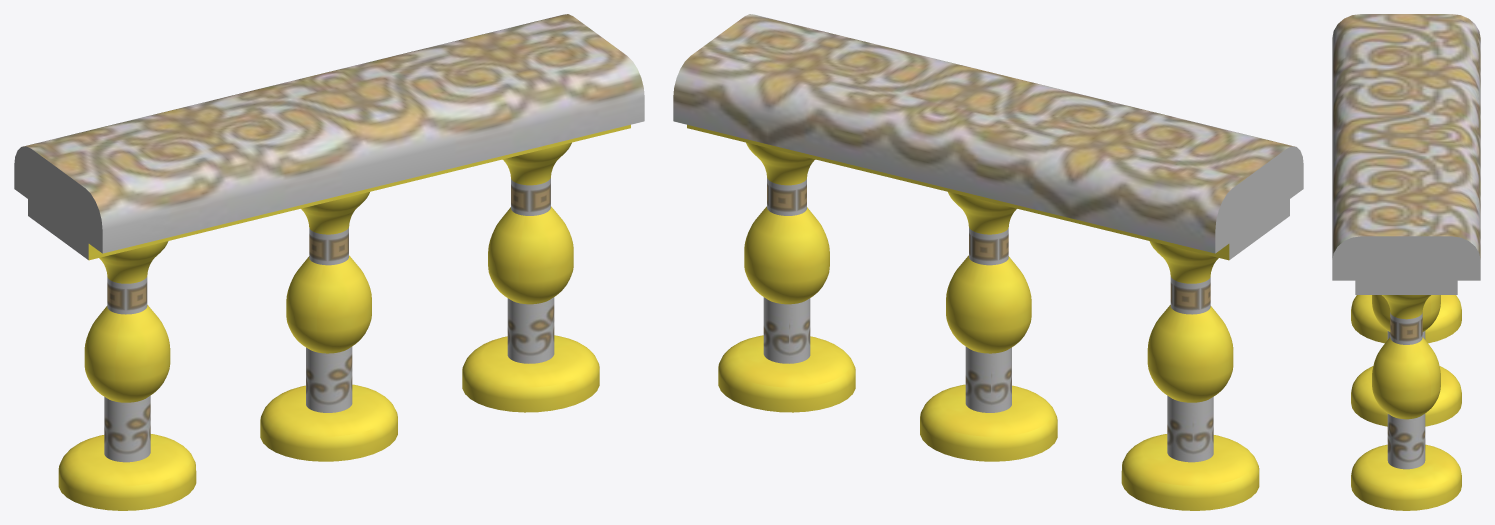
The model's file is SM_fence.glb.
The picture shows the model from 3 angles, left to right: view 1: azimuth 30°, elevation 25°; view 2: azimuth 150°, elevation 25°; view 3: azimuth 270°, elevation 25°; orthographic projection. The views are drawn at different scales.
Visible parts, largest first — view 1: SM_fence; view 2: SM_fence; view 3: SM_fence.
Part boxes in pixels (x1,y1,x2,y2): SM_fence: [14, 14, 644, 510]; SM_fence: [673, 14, 1303, 510]; SM_fence: [1332, 14, 1480, 510].
Size of the model in its own units: 1.2 by 0.7 by 0.3386.
4 materials, 4 textured.
